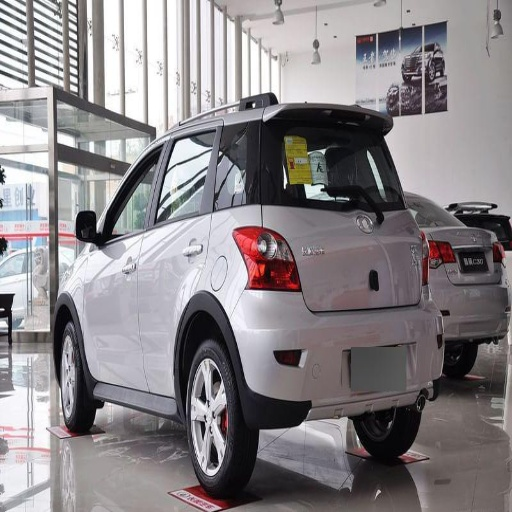back_bumper: (227, 289, 444, 424)
back_glass: (257, 112, 397, 207)
back_left_door: (138, 130, 214, 392)
tailgate: (285, 237, 421, 310), (416, 227, 504, 282)
trunk: (274, 209, 429, 259)
